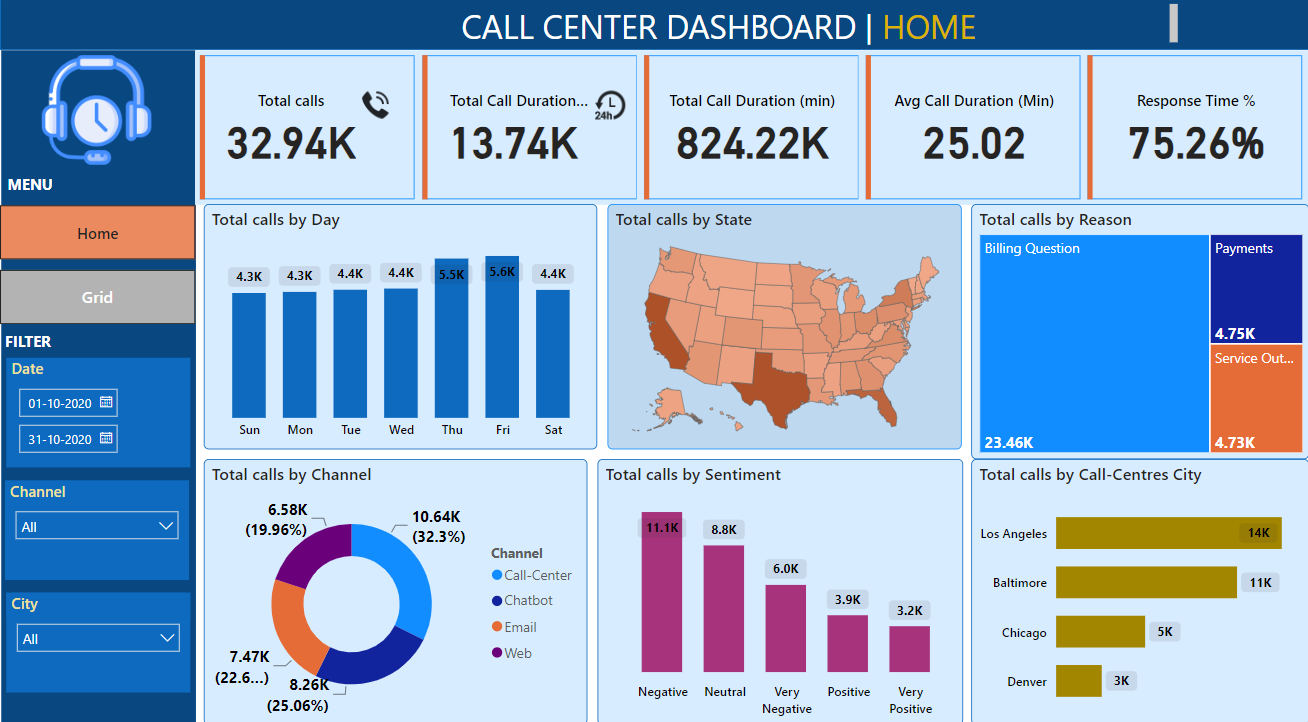

The dashboard page shown, as its layout file describes it:
{"tool":"powerbi","page":{"name":"Home","canvas":[1280,720],"ordinal":0},"visuals":[{"type":"shape","box":[0,9.4,1280.3,49.9],"z":0},{"type":"shape","box":[1.2,59.9,190.7,660.1],"z":1000},{"type":"cardVisual","fields":{"Data":["Call Center_Call Center.Total calls","Call Center_Call Center.Total Call Duration (Hrs)","Call Center_Call Center.Total Call Duration (min)","Call Center_Call Center.Avg Call Duration (Min)","Call Center_Call Center.Response Time %"]},"box":[190.2,59.4,1090.1,151.1],"z":2000},{"type":"textbox","box":[446.2,9.8,710.2,50.1],"z":3000},{"type":"columnChart","fields":{"Category":["Date Table.Day"],"Y":["Call Center_Call Center.Total calls"]},"box":[199.7,210.5,385,240.1],"z":4000},{"type":"shapeMap","fields":{"Category":["Call Center_Call Center.State"],"Value":["Call Center_Call Center.Total calls"]},"box":[593.6,210.5,346.7,240.1],"z":5000},{"type":"treemap","fields":{"Group":["Call Center_Call Center.Reason"],"Values":["Call Center_Call Center.Total calls"]},"box":[949.8,210.5,330.5,249.6],"z":6000},{"type":"donutChart","fields":{"Category":["Call Center_Call Center.Channel"],"Y":["Call Center_Call Center.Total calls"]},"box":[199.7,460,375,260.4],"z":7000},{"type":"columnChart","fields":{"Category":["Call Center_Call Center.Sentiment"],"Y":["Call Center_Call Center.Total calls"]},"box":[584.2,460,357.5,260.4],"z":8000},{"type":"barChart","fields":{"Category":["Call Center_Call Center.Call-Centres City"],"Y":["Call Center_Call Center.Total calls"]},"box":[950,460,330,260],"z":9000},{"type":"slicer","title":"Date","fields":{"Values":["Date Table.Date"]},"box":[6.1,360.6,179.7,107.6],"z":10000},{"type":"slicer","title":"Channel","fields":{"Values":["Call Center_Call Center.Channel"]},"box":[4.9,480.4,179.7,97.8],"z":11000},{"type":"slicer","title":"City","fields":{"Values":["Call Center_Call Center.City"]},"box":[6.1,590.4,179.7,97.8],"z":12000},{"type":"image","box":[2.4,59.9,184.6,117.4],"z":13000},{"type":"pageNavigator","box":[0,211.5,191.9,117.4],"z":14000},{"type":"textbox","box":[2.4,176,69.7,34.2],"z":15000},{"type":"textbox","box":[0,328.8,72.1,34.2],"z":16000}]}

Visuals, with their boxes in screenshot pixels (x1, y1, x2, y2), scaled from the page's 1280x720 canvas onto the 1308x722 screenshot:
shape: [0,9,1307,59]
shape: [1,60,196,721]
cardVisual - Call Center_Call Center.Total calls x Call Center_Call Center.Total Call Duration (Hrs): [194,60,1307,211]
textbox: [456,10,1182,60]
columnChart - Date Table.Day x Call Center_Call Center.Total calls: [204,211,597,452]
shapeMap - Call Center_Call Center.State x Call Center_Call Center.Total calls: [607,211,961,452]
treemap - Call Center_Call Center.Reason x Call Center_Call Center.Total calls: [971,211,1307,461]
donutChart - Call Center_Call Center.Channel x Call Center_Call Center.Total calls: [204,461,587,721]
columnChart - Call Center_Call Center.Sentiment x Call Center_Call Center.Total calls: [597,461,962,721]
barChart - Call Center_Call Center.Call-Centres City x Call Center_Call Center.Total calls: [971,461,1307,721]
"Date" slicer: [6,362,190,470]
"Channel" slicer: [5,482,189,580]
"City" slicer: [6,592,190,690]
image: [2,60,191,178]
pageNavigator: [0,212,196,330]
textbox: [2,176,74,211]
textbox: [0,330,74,364]
